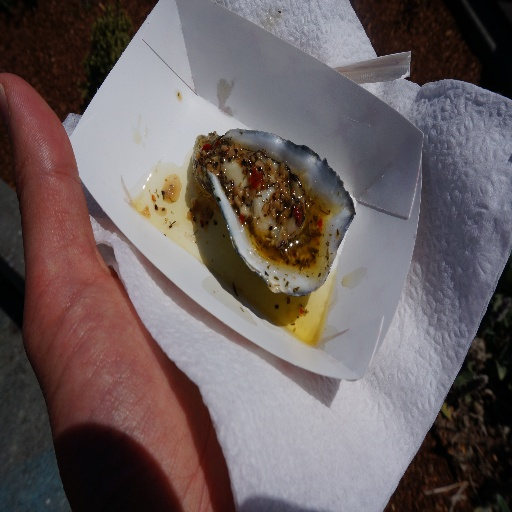hand: (0, 72, 233, 511)
